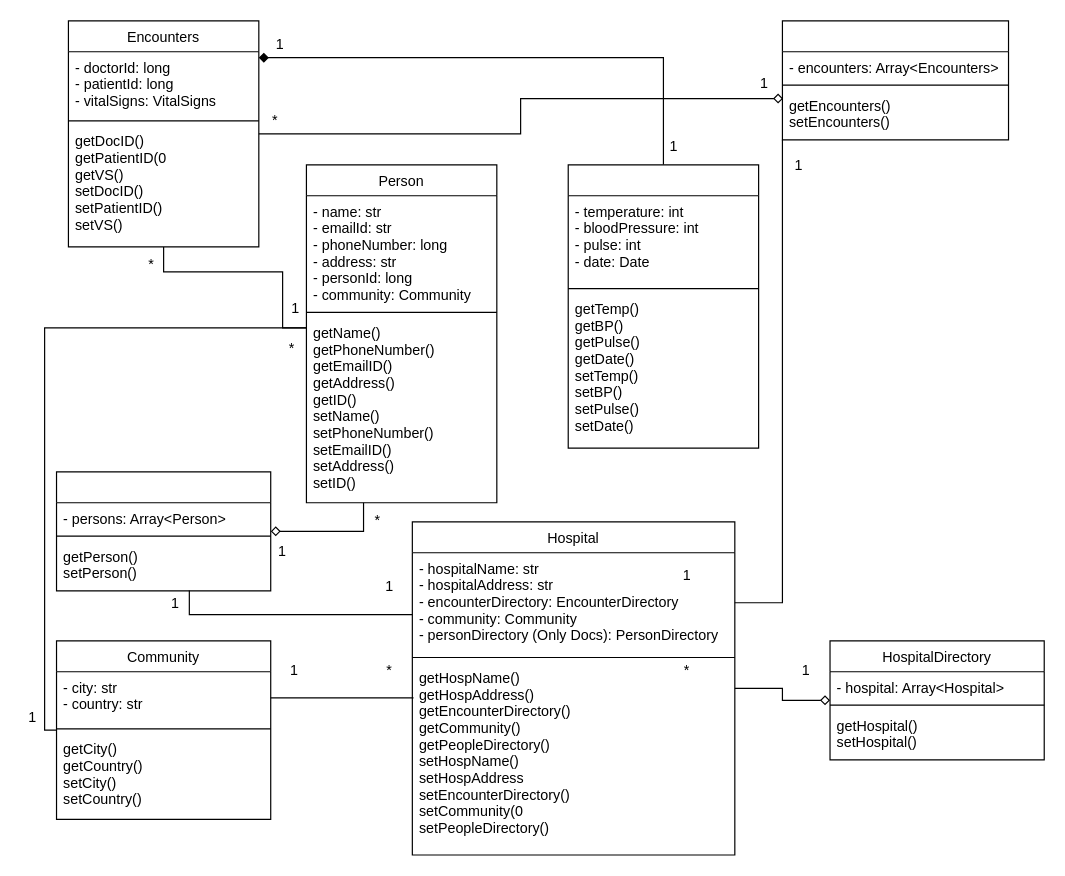
The diagram is 1065 pixels wide and 876 high, and some of its shapes have lost their labels. The shapes that lost their labels are listed below. From the top down, each one's box as (x1, y1, x2, y2) in pixels, then its label:
(781, 20, 1009, 140): EncounterDirectory
(567, 164, 759, 448): VitalSigns
(55, 471, 271, 591): PersonDirectory
